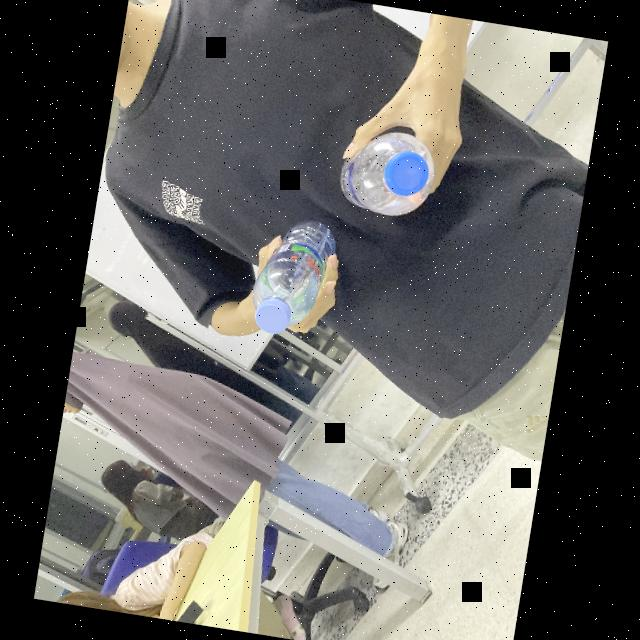plastic_bottle: (247, 214, 341, 342), (329, 124, 438, 222)
plastic_bottle_cap: (382, 144, 432, 198), (252, 296, 292, 334)
